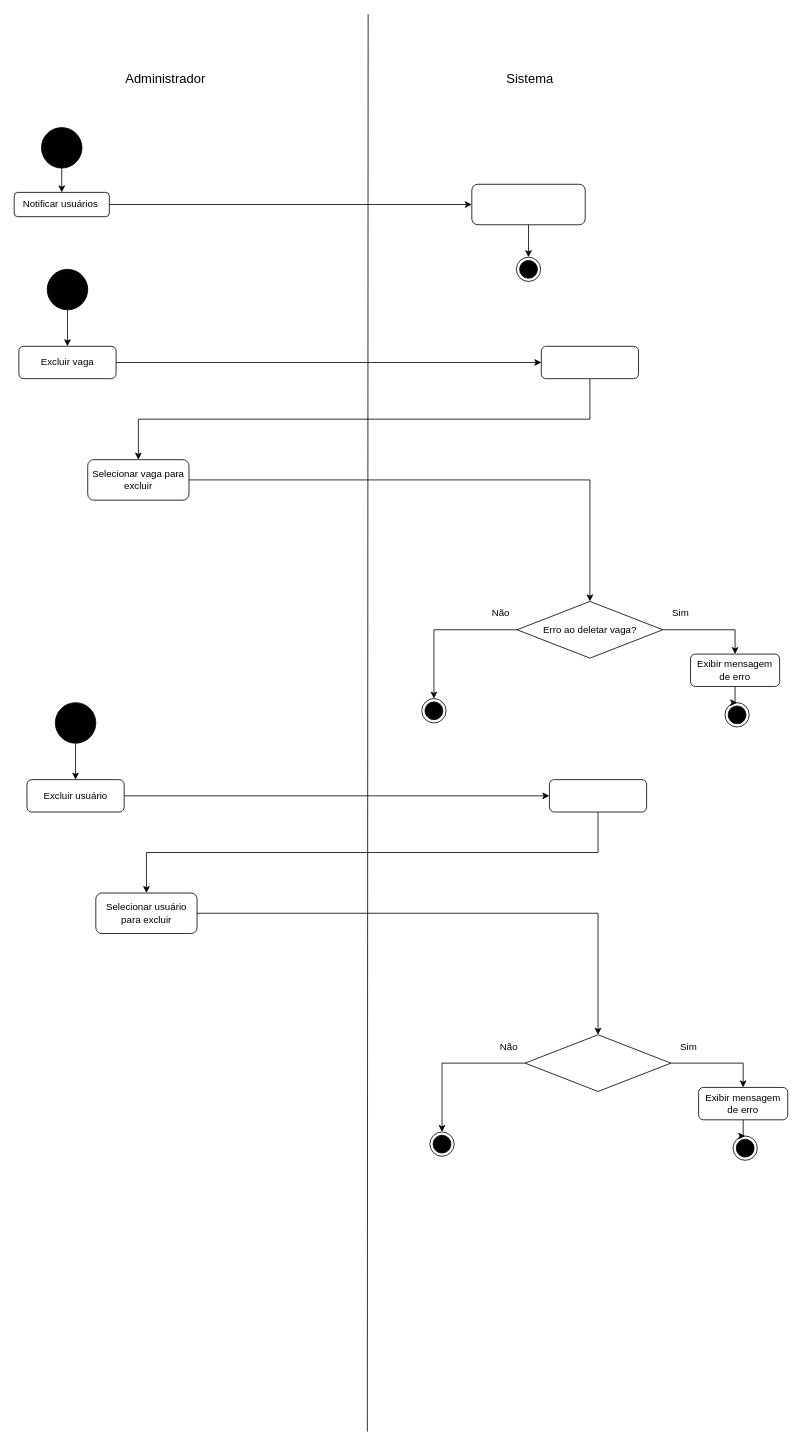
Image size: 802x1447. Some labels were removed from this diagram. The shapes that lost their labels are listed below. From the top down, each one's centre as x and y in pixels, then its label:
the point at 528,204: Envia a notificação para os usuários determinados
the point at 590,362: Exibir lista de vagas
the point at 598,795: Exibir lista de usuários
the point at 597,1062: Erro ao deletar usuário?
